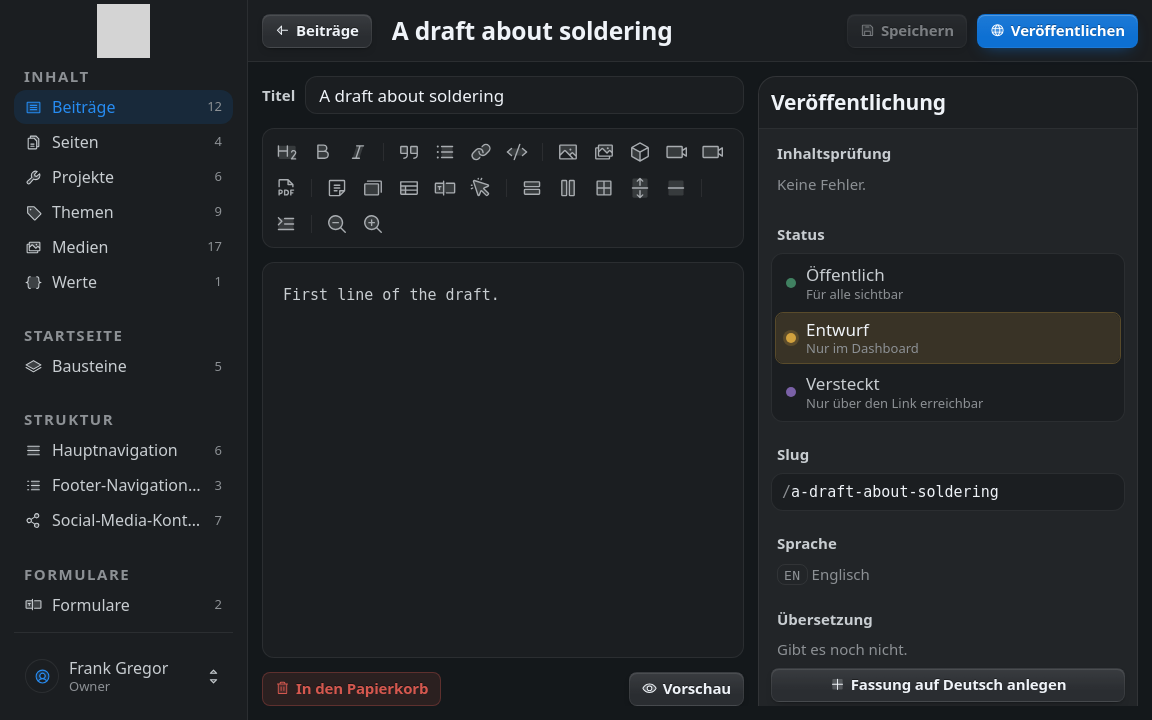
dashboard shell › says plainly when the address belongs to another entry
This screenshot has width=1152, height=720.
Replace the text in the field labelled "Slug" with "a-page" at coordinates (952, 492), box [791,474,1114,510]
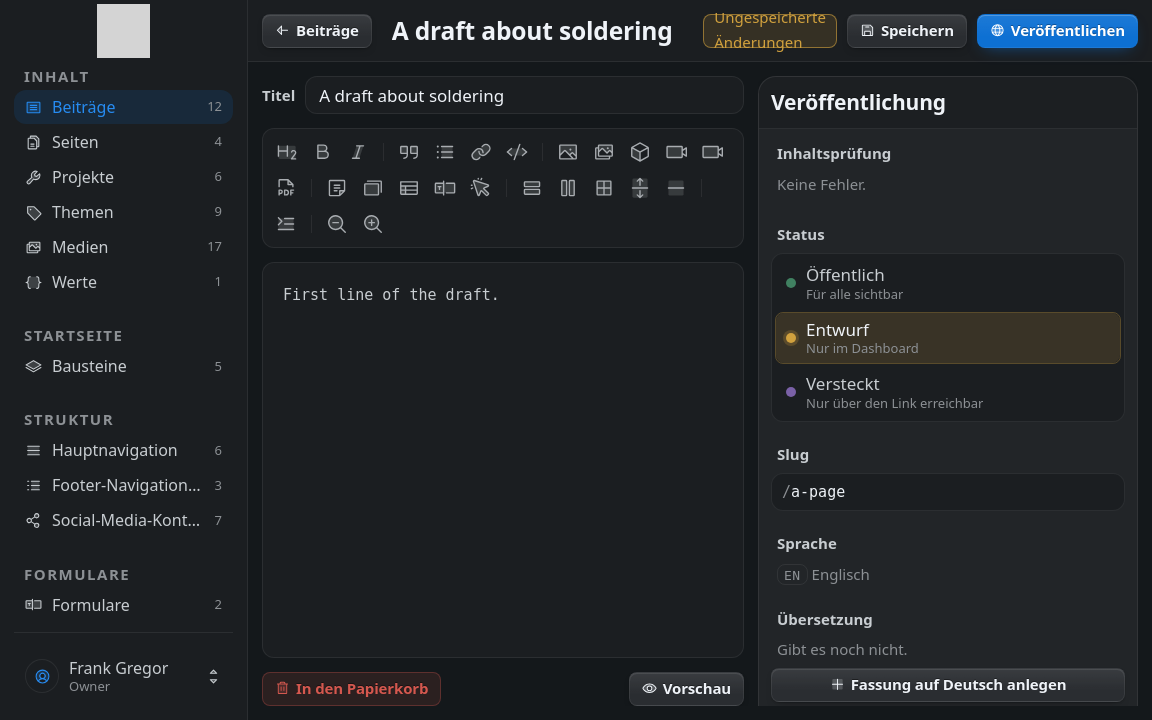
Click the button "Speichern" at coordinates (907, 31), box [847,14,967,48]
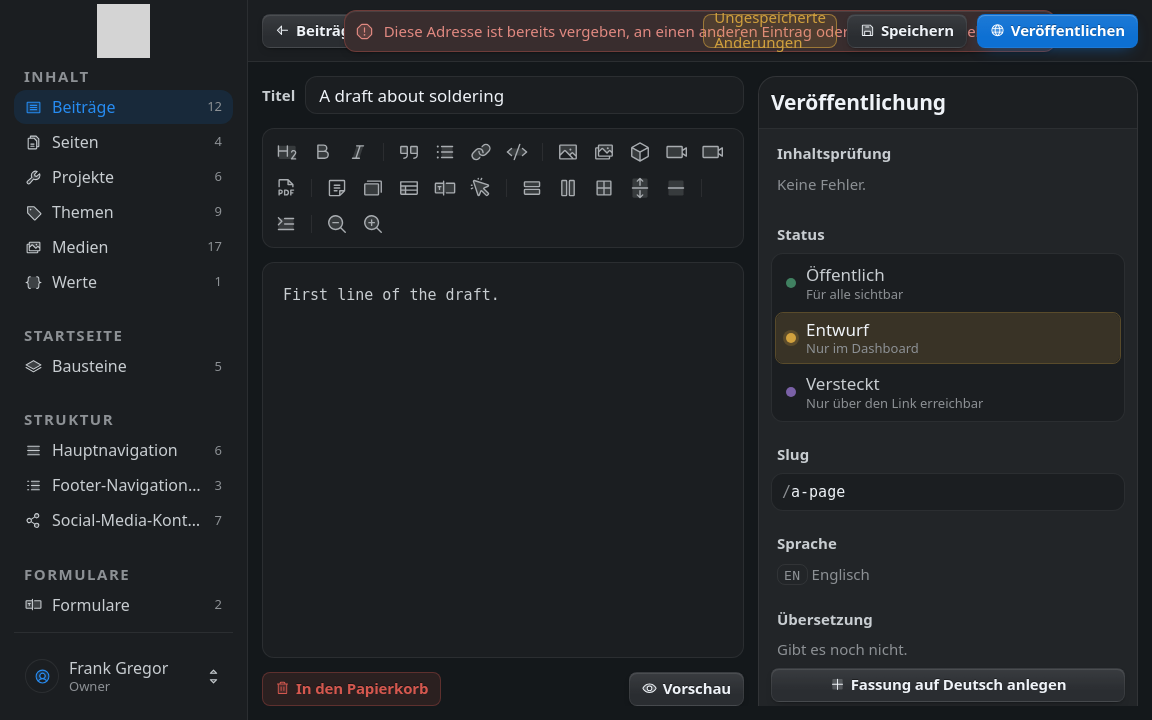
Expected: the text "Diese Adresse ist bereits vergeben, an einen anderen Eintrag oder an die Website selbst." is shown, [384,21,1005,41]
